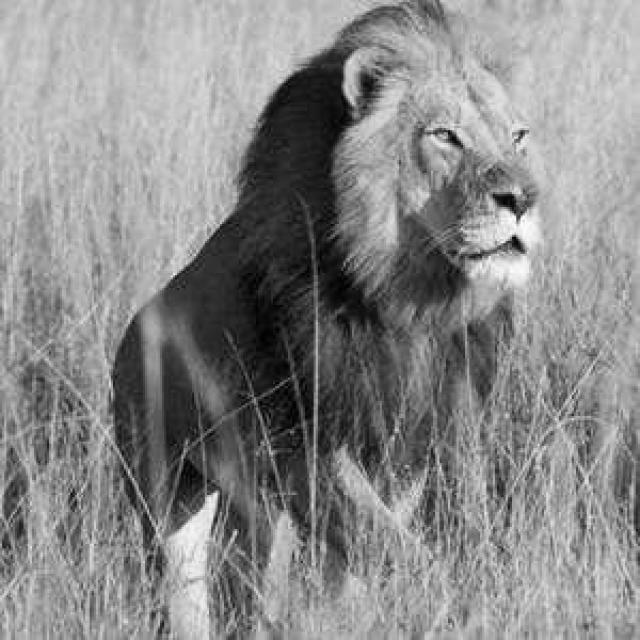Lion: (187, 19, 572, 557)
